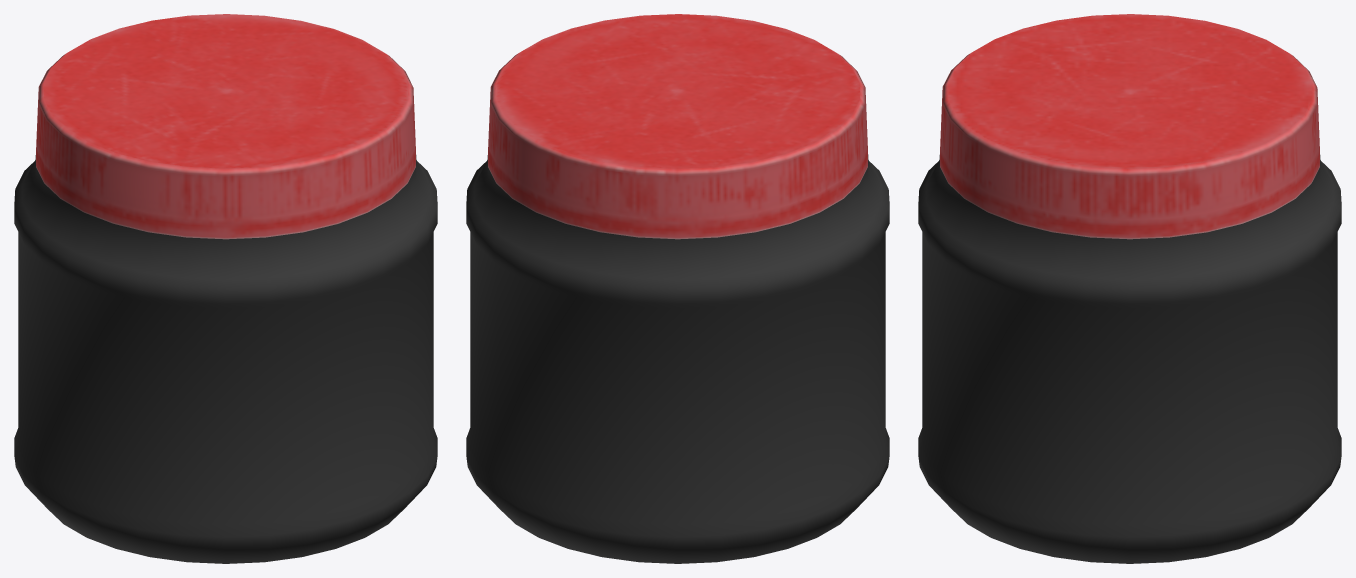
The model's file is M_PlasticContainer_01.FBX.
The picture shows the model from 3 angles, left to right: view 1: azimuth 30°, elevation 25°; view 2: azimuth 150°, elevation 25°; view 3: azimuth 270°, elevation 25°; orthographic projection.
Parts seen in each view (by area): view 1: M_PlasticContainer_01; view 2: M_PlasticContainer_01; view 3: M_PlasticContainer_01.
Part boxes in pixels (<box>): M_PlasticContainer_01: <box>14,14,437,563</box>; M_PlasticContainer_01: <box>466,14,889,563</box>; M_PlasticContainer_01: <box>918,14,1341,563</box>.
Size of the model in its own units: 11.23 by 11.16 by 11.46.
